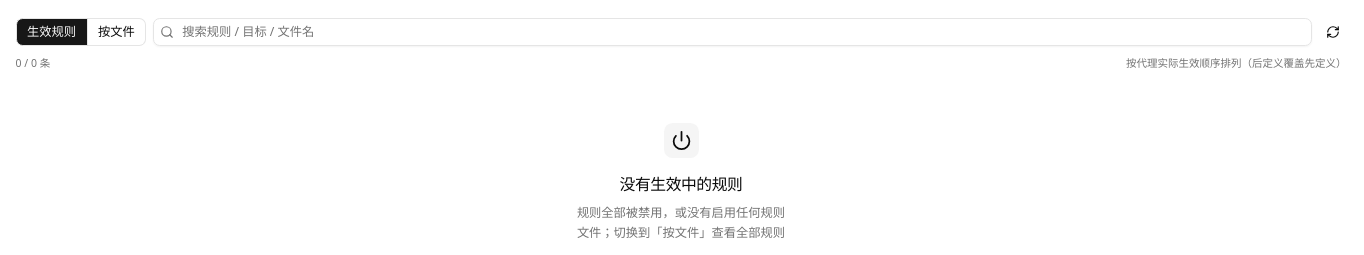
Scenario: RuleOverviewPanel › renders per-file read errors as a group-level error row
Click the radio button labelled "按文件".
click(117, 32)  # box [88,18,146,46]
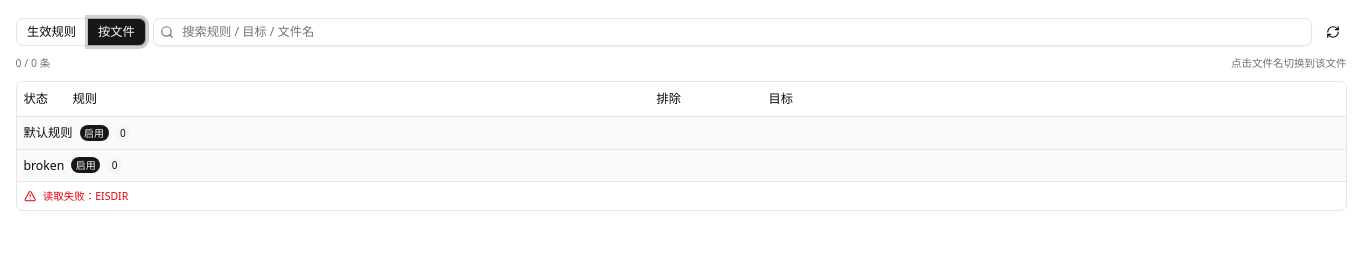
Check: the text "读取失败：EISDIR" is shown, box [24,189,128,203]
